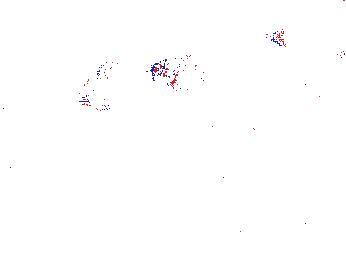X-ray fish: (143, 54, 211, 92)
glassfish: (223, 101, 325, 168)
red belly glassfish: (324, 48, 346, 62)
redtail glassfish: (79, 64, 117, 117), (226, 24, 288, 54), (275, 78, 336, 108)
